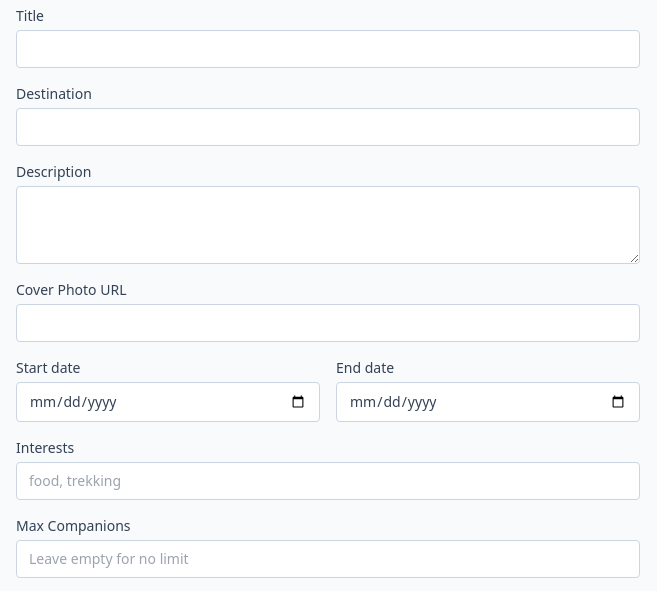
PlanForm › shows_a_friendly_message_and_stays_usable_on_502
In the field labelled "Title": (328,49) [16,30,640,68], type "Goa Escape"
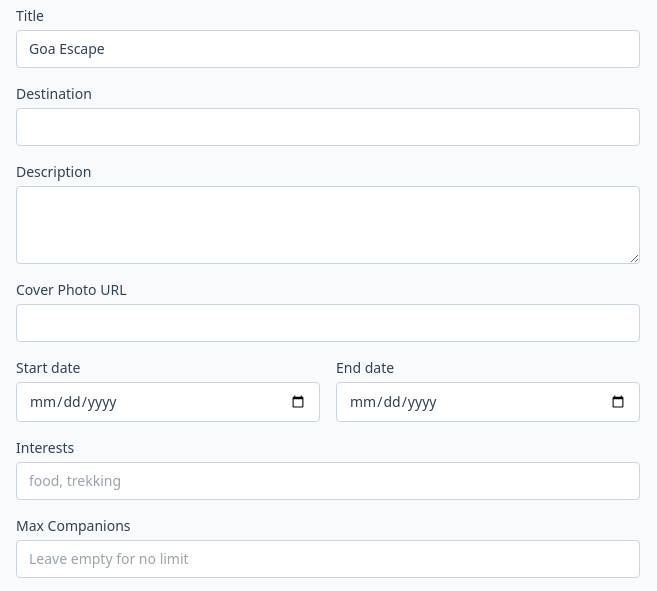
In the field labelled "Destination": (328,127) [16,108,640,146], type "Goa"
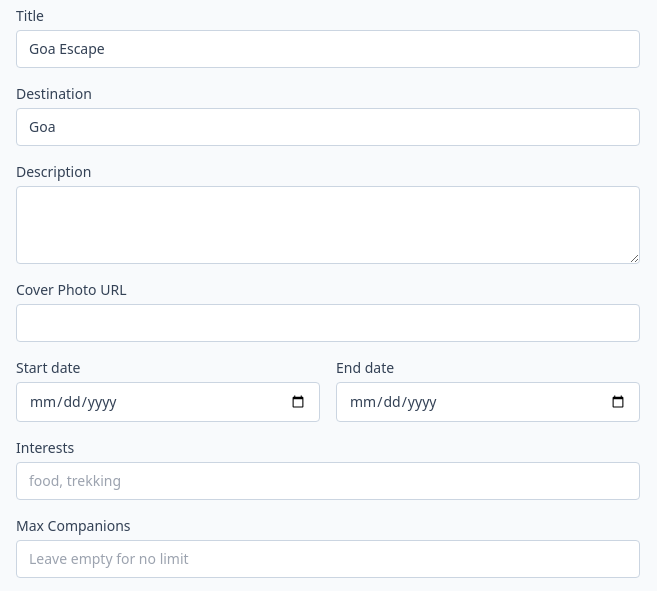
In the date field labelled "Start date": (168,402) [16,382,320,422], type "2030-05-01"
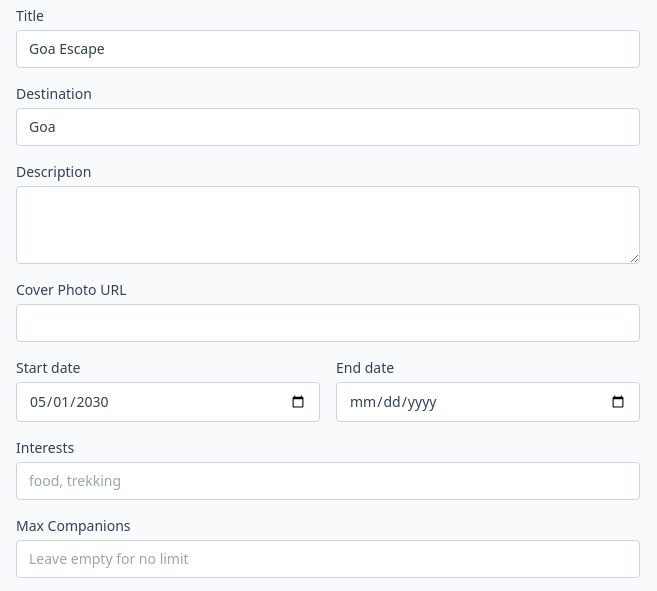
In the date field labelled "End date": (488,402) [336,382,640,422], type "2030-05-03"
(page scrolled)
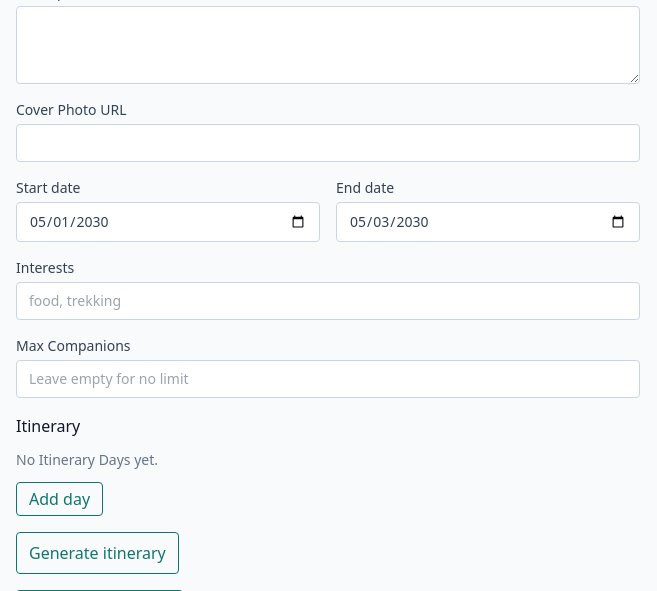
Click the button "Generate itinerary": (97,553) [16,532,179,574]
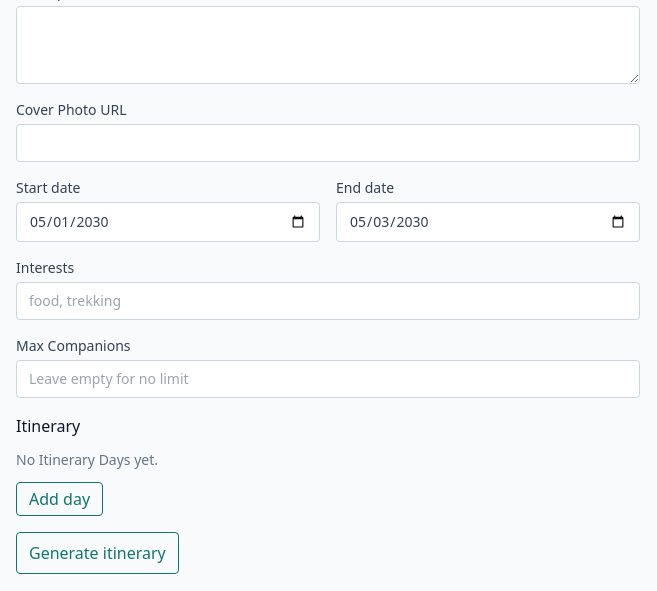
Click the button "Add day": (60,499) [16,482,103,516]
(page scrolled)
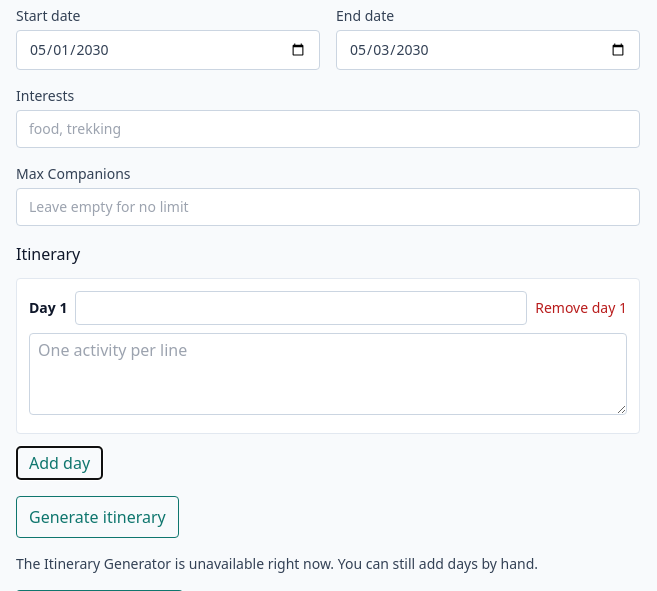
Expected: the button "Generate itinerary" is enabled, [16,496,179,538]
Expected: the field named "Day 1 title" is enabled, [75,291,527,325]
